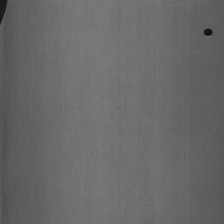punching_hole: (0, 0, 9, 27), (203, 25, 213, 39)
